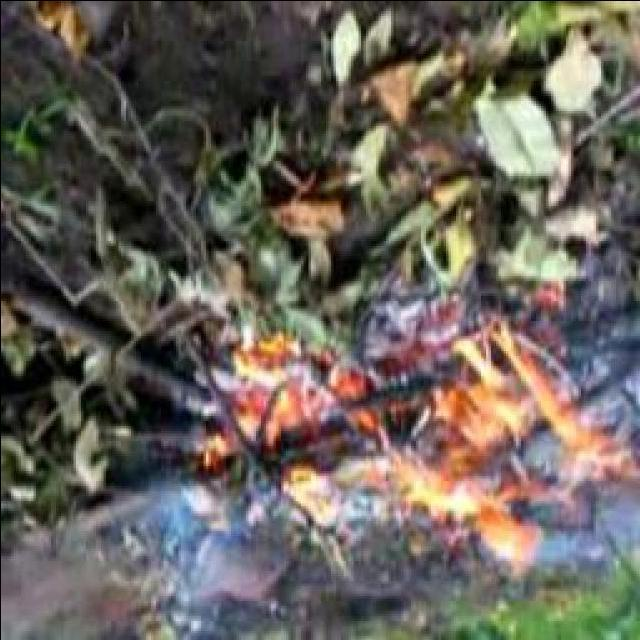Fire: (206, 323, 602, 570)
